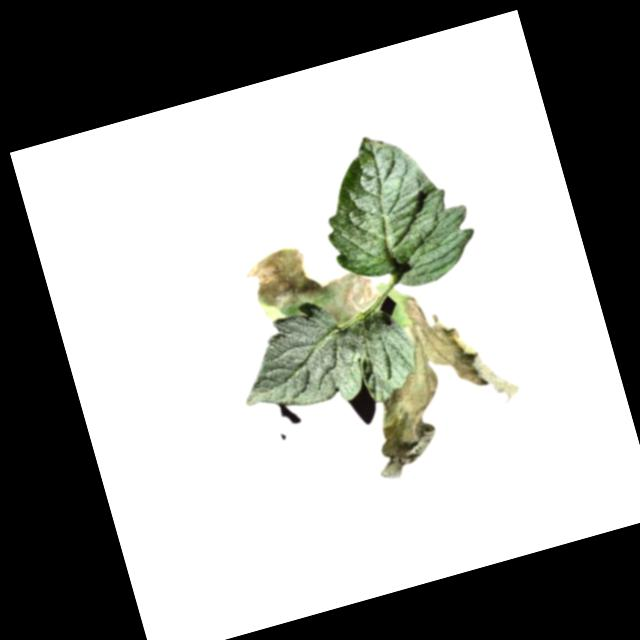Late_blight: (332, 269, 534, 483), (240, 225, 386, 347)
